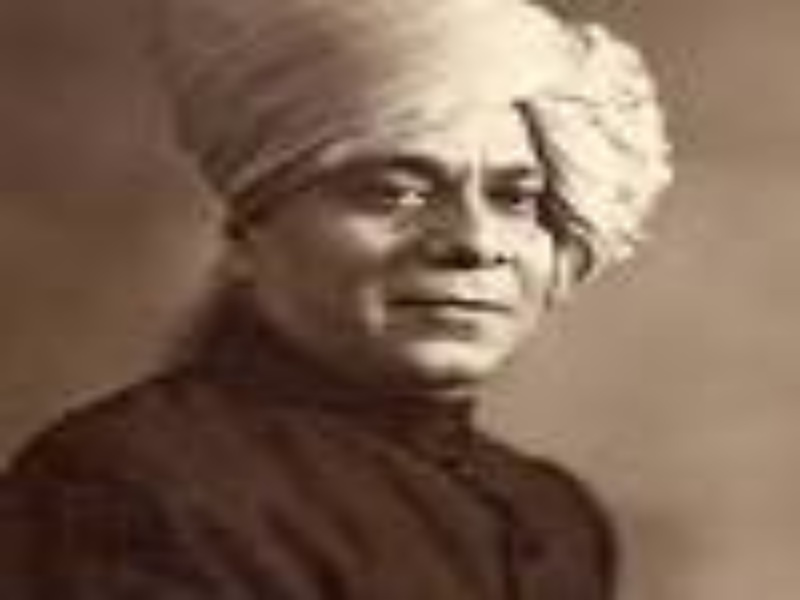person: (34, 15, 681, 590)
